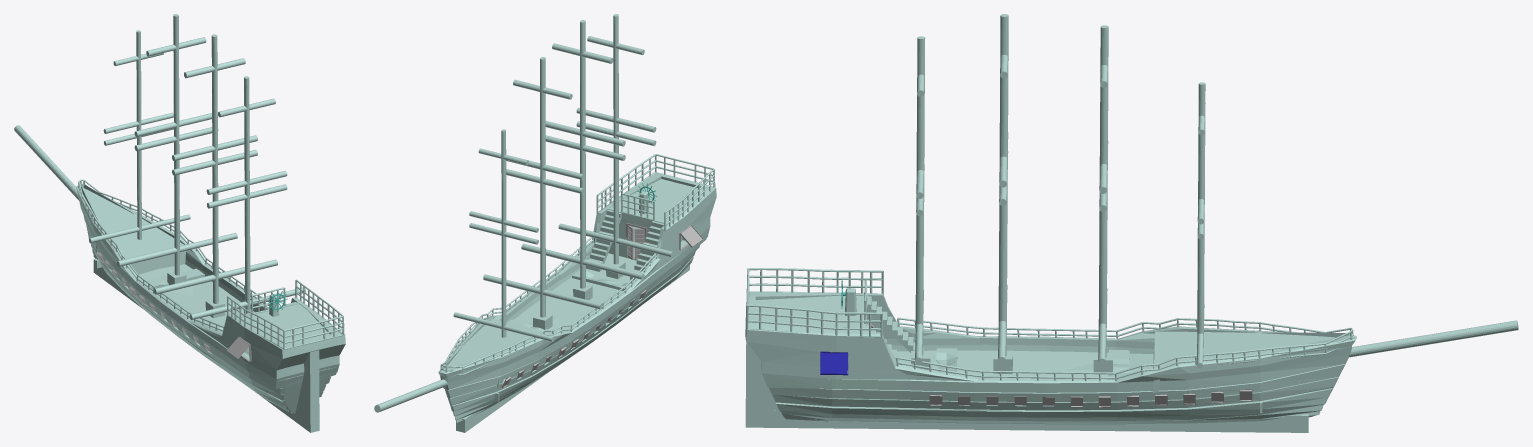
File: Ship Model.fbx
The picture shows the model from 3 angles, left to right: view 1: azimuth 30°, elevation 25°; view 2: azimuth 150°, elevation 25°; view 3: azimuth 270°, elevation 25°; orthographic projection. The views are drawn at different scales.
Visible parts, largest first — view 1: BrokenDing, AwningWin2; view 2: BrokenDing, PivotDoor0, AwningWin2; view 3: BrokenDing.
Part boxes in pixels (bbox=[...]): BrokenDing: bbox=[14, 14, 345, 432]; AwningWin2: bbox=[227, 336, 250, 361]; BrokenDing: bbox=[374, 14, 716, 432]; PivotDoor0: bbox=[625, 223, 646, 260]; AwningWin2: bbox=[679, 225, 702, 250]; BrokenDing: bbox=[745, 14, 1518, 432].
Size of the model in its own units: 0.9331 by 2.39 by 4.06.
